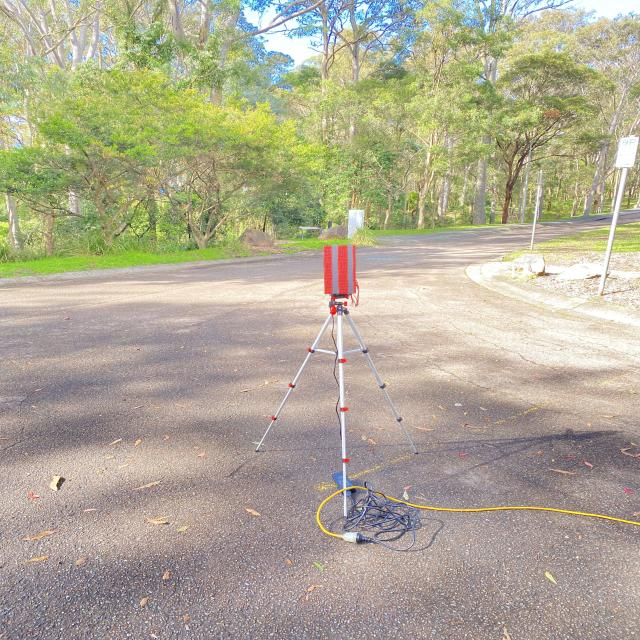matrix: (320, 240, 363, 300)
